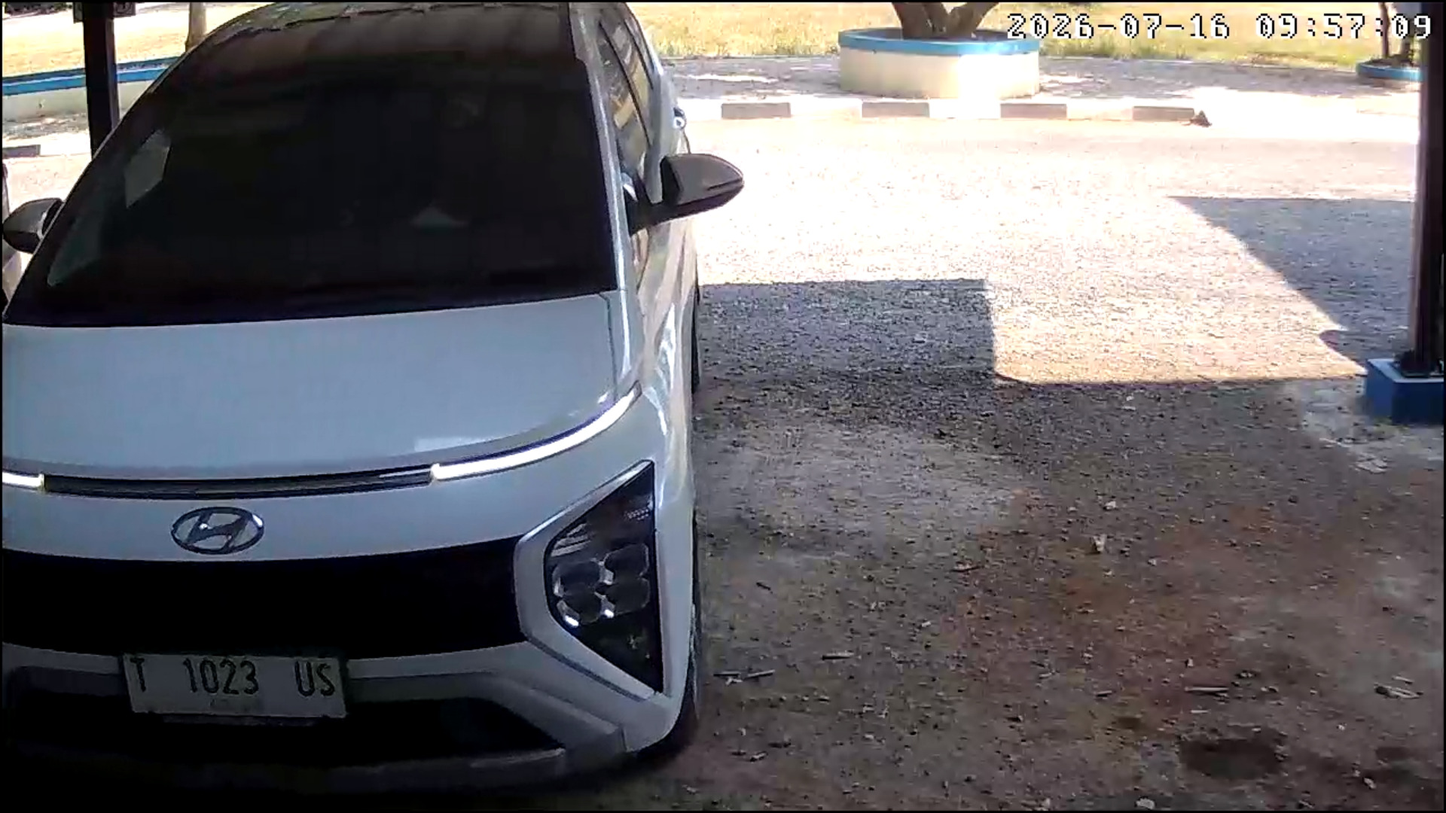plat nomor: (120, 648, 350, 725)
